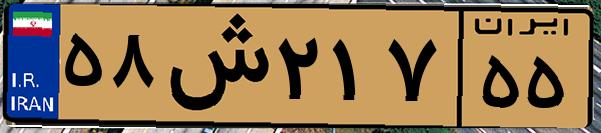1: (330, 28, 385, 110)
2: (270, 28, 330, 110)
5: (57, 26, 110, 100), (475, 38, 525, 113), (525, 38, 570, 115)
7: (385, 28, 445, 110)
8: (110, 28, 158, 98)
ش: (158, 12, 270, 120)
